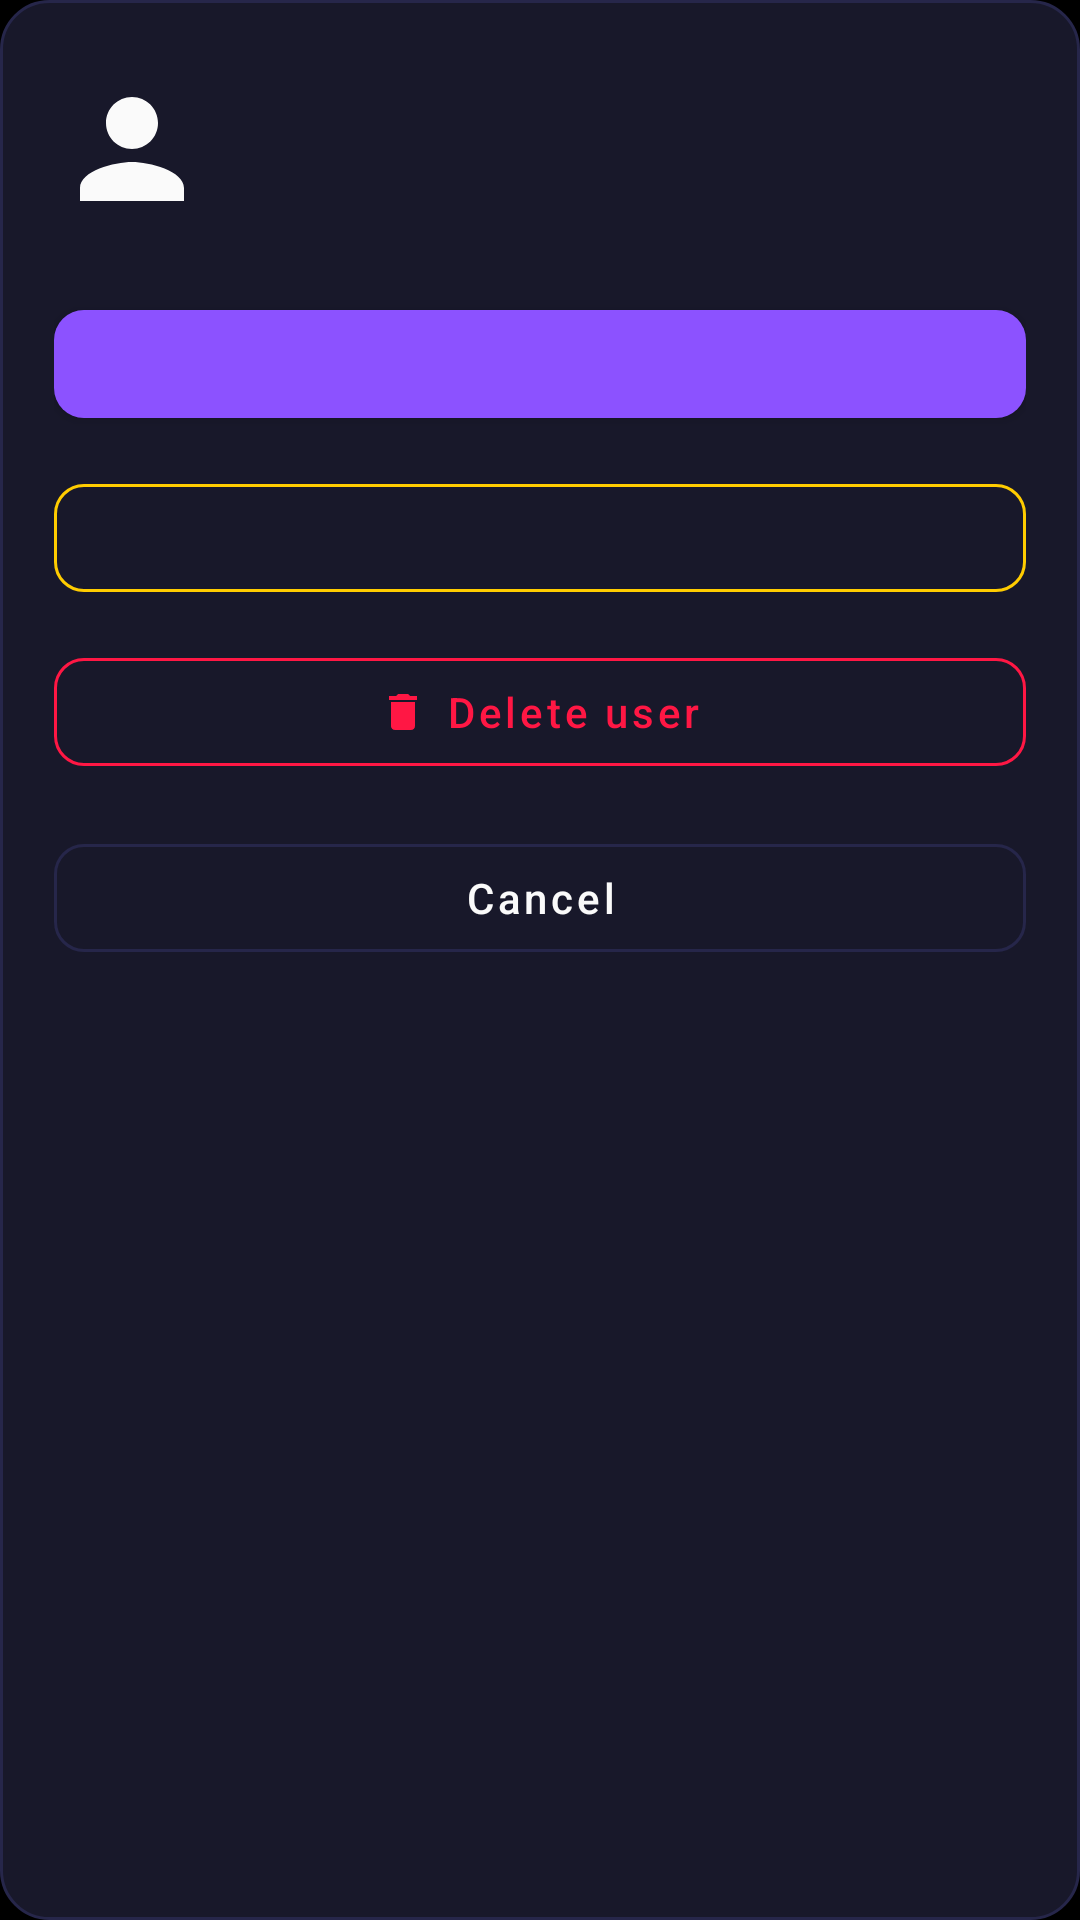

Screen size 1080w x 1920h. Icon name, then its box in pixels as [x1, y1, x2, y2]:
User Profile Photo: [80, 97, 184, 201]
